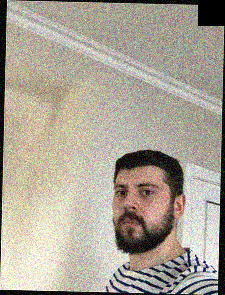without_mask: (111, 174, 165, 257)
